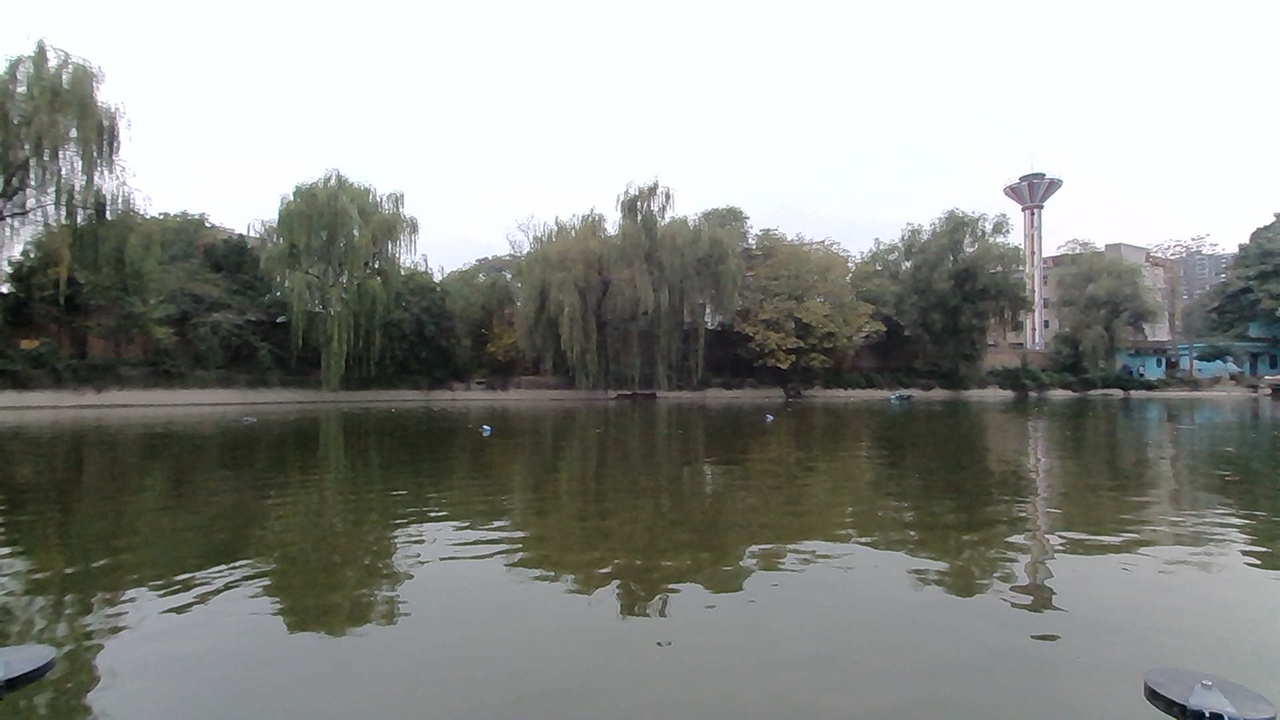bottle: (229, 400, 265, 431), (467, 412, 506, 440), (752, 404, 783, 425)
